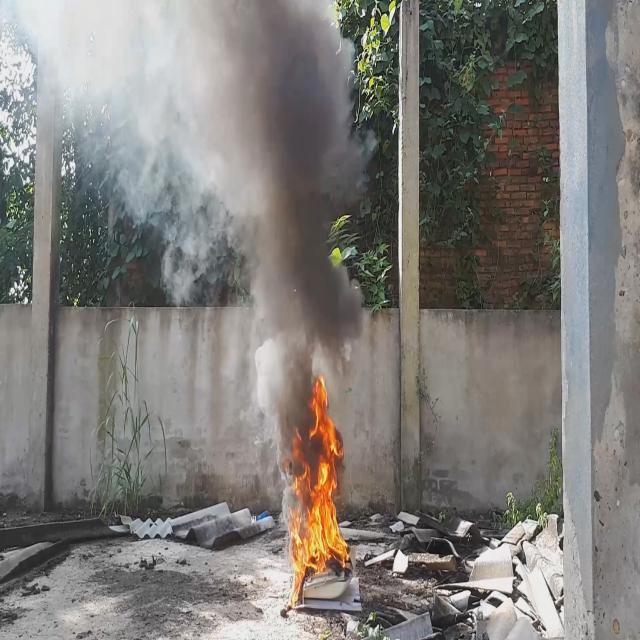Fire: (288, 373, 350, 615)
Smoke: (0, 0, 372, 496)
